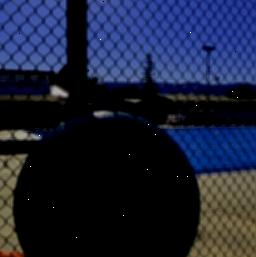algae: (10, 109, 198, 257)
